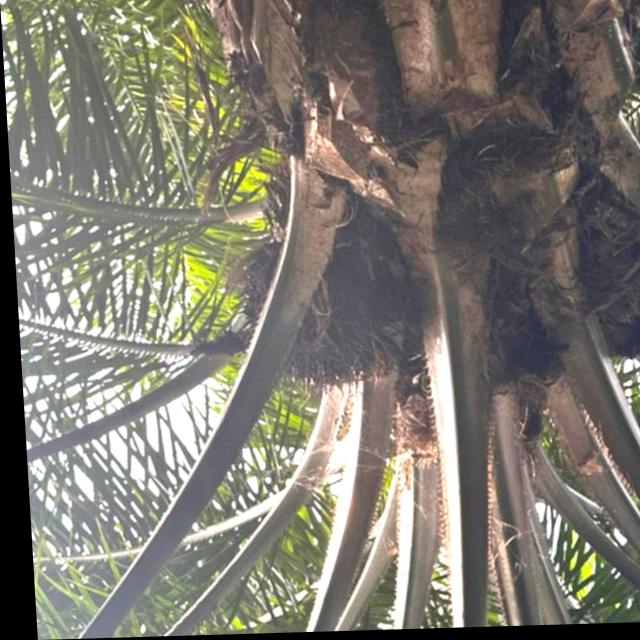almost: (232, 249, 385, 396)
